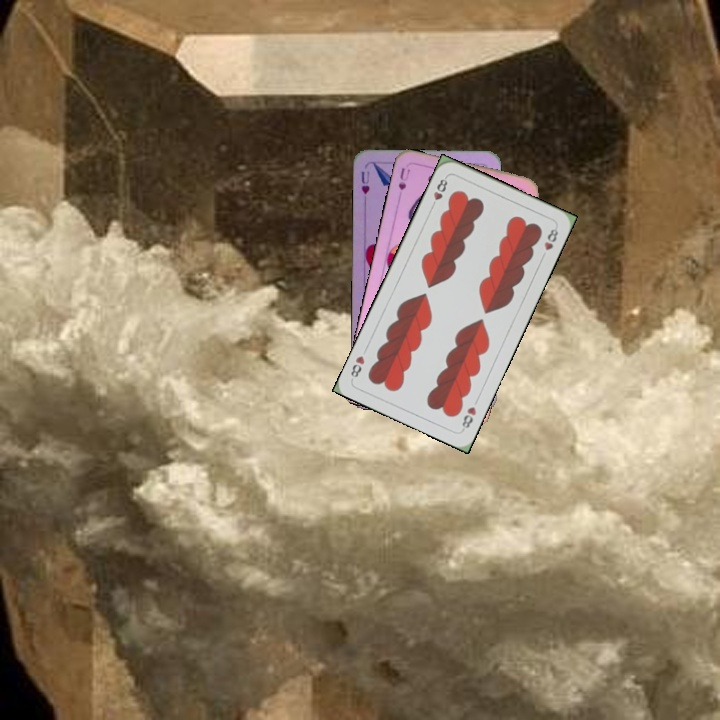H8: (427, 173, 450, 211), (458, 402, 479, 433)
HU: (357, 167, 372, 197)
SU: (394, 163, 413, 204)
